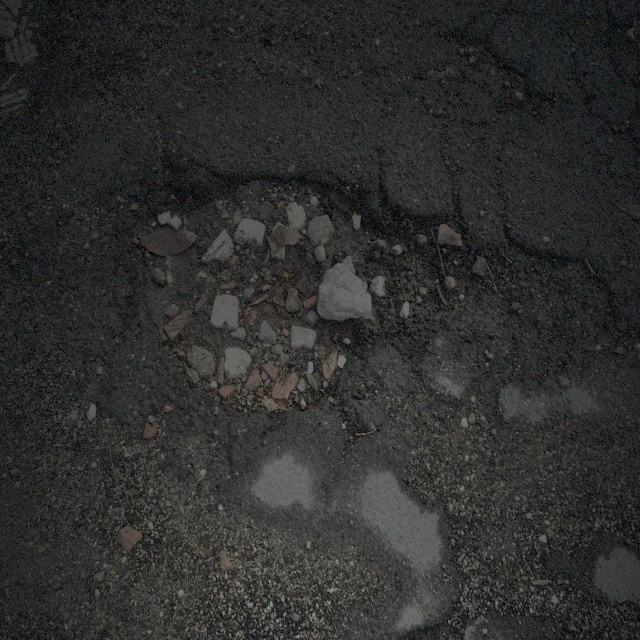pothole: (120, 138, 468, 448)
